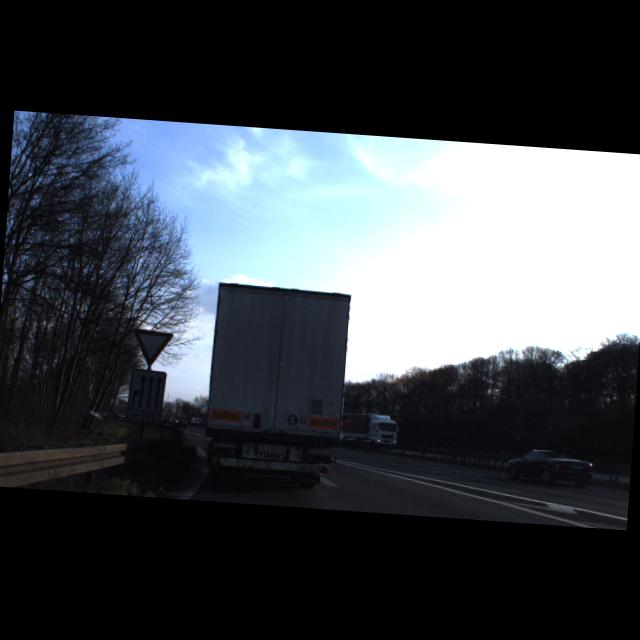other: (130, 328, 174, 369)
